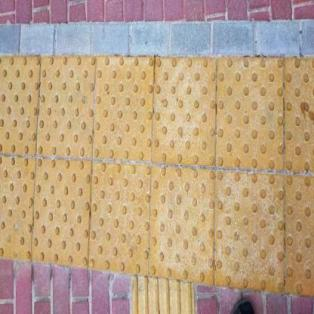Podoctatil: (0, 54, 314, 298)
